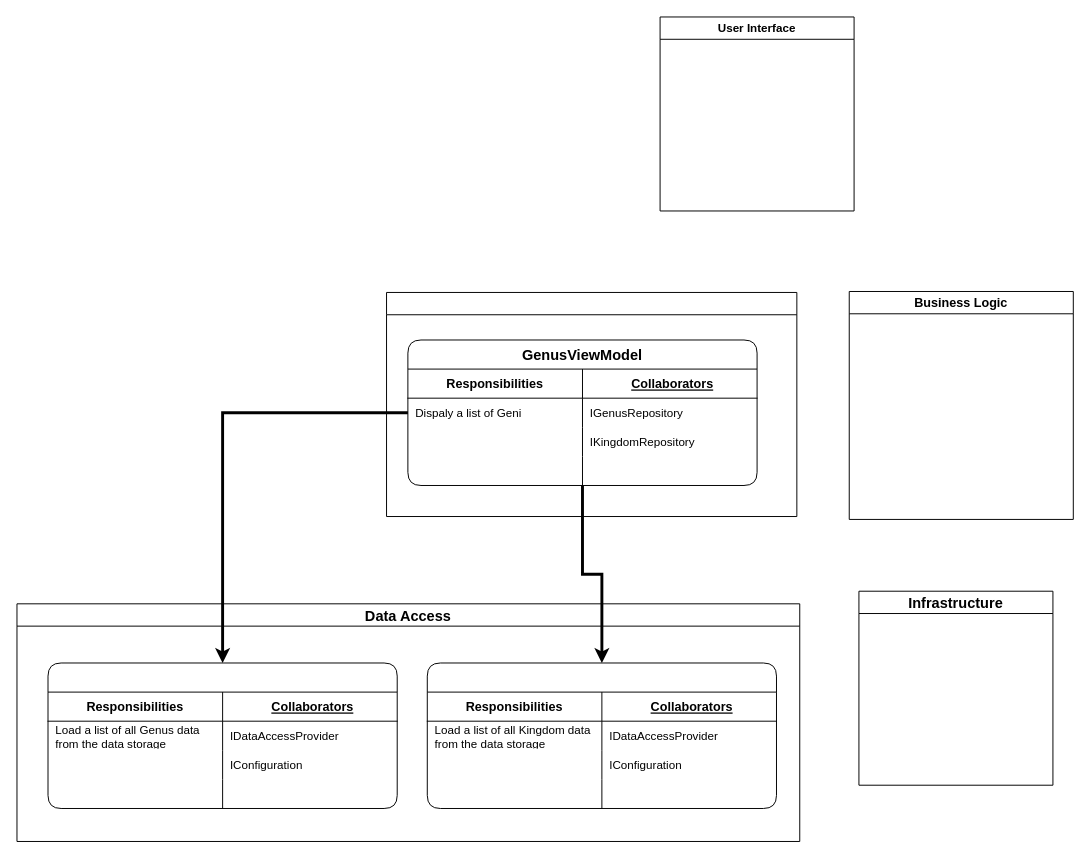
This 1090x858 diagram has some shape labels left out. Each missing label, with the box of its shape:
GenusRepository: (47, 662, 397, 808)
KingdomRepository: (426, 662, 776, 808)
Presentation Logic: (386, 291, 797, 517)
